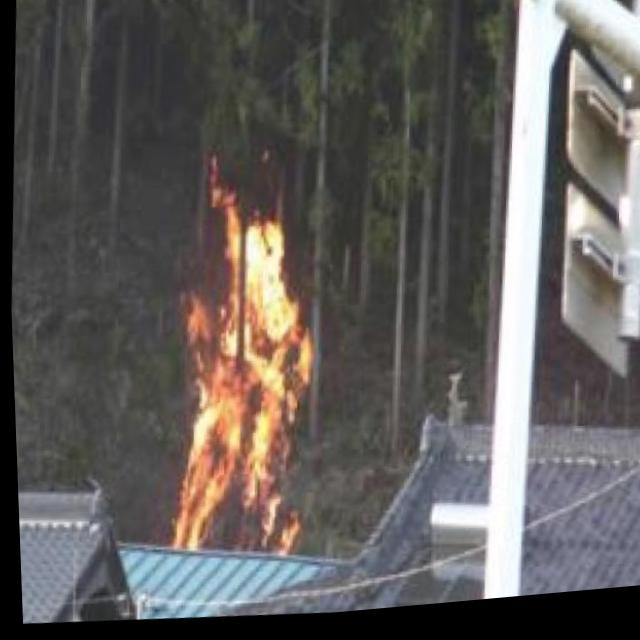Fire: (148, 168, 333, 572)
